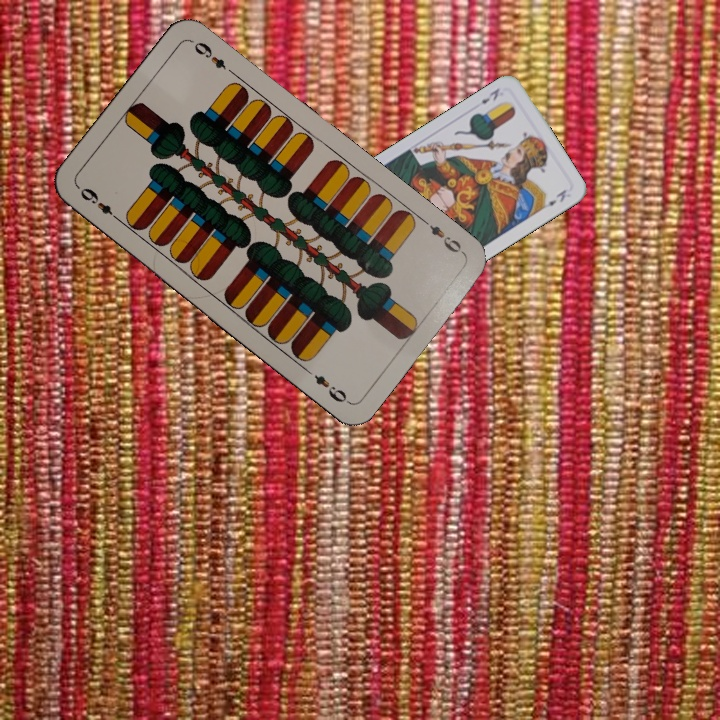E9: (418, 215, 467, 257), (76, 183, 124, 225)
EK: (477, 84, 502, 106)
